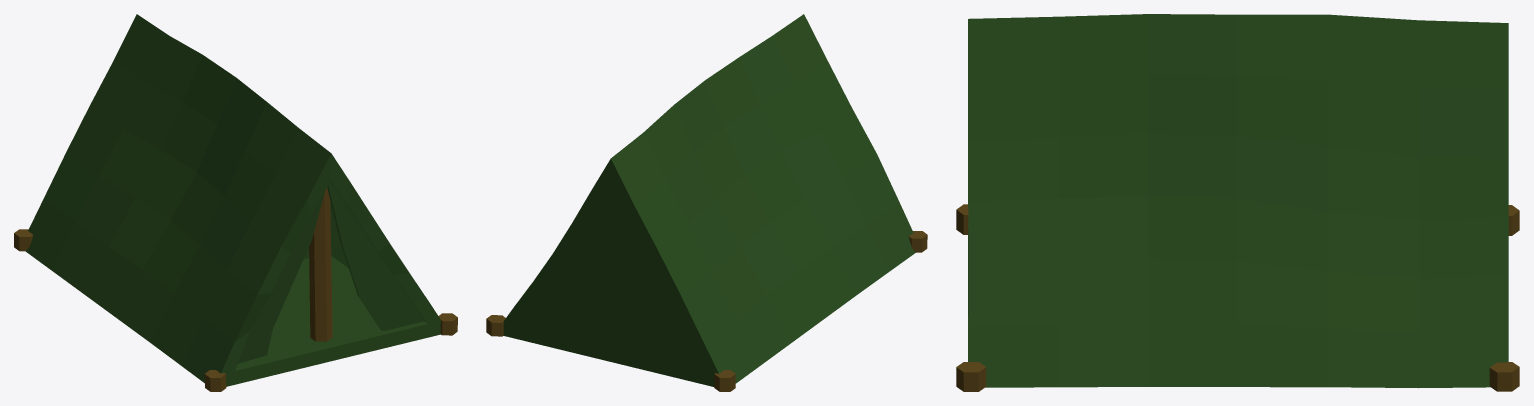
The model's file is palatka.fbx.
3 views of the same model, side by side, from view 1: azimuth 30°, elevation 25°; view 2: azimuth 150°, elevation 25°; view 3: azimuth 270°, elevation 25° (orthographic). The views are drawn at different scales.
Visible parts, largest first — view 1: Cylinder.002; view 2: Cylinder.002; view 3: Cylinder.002.
Boxes of the visible parts, left/top/right/bottom form: Cylinder.002: left=14, top=14, right=457, bottom=391; Cylinder.002: left=486, top=14, right=927, bottom=391; Cylinder.002: left=956, top=14, right=1519, bottom=391.
Size of the model in its own units: 184 by 151 by 260.
